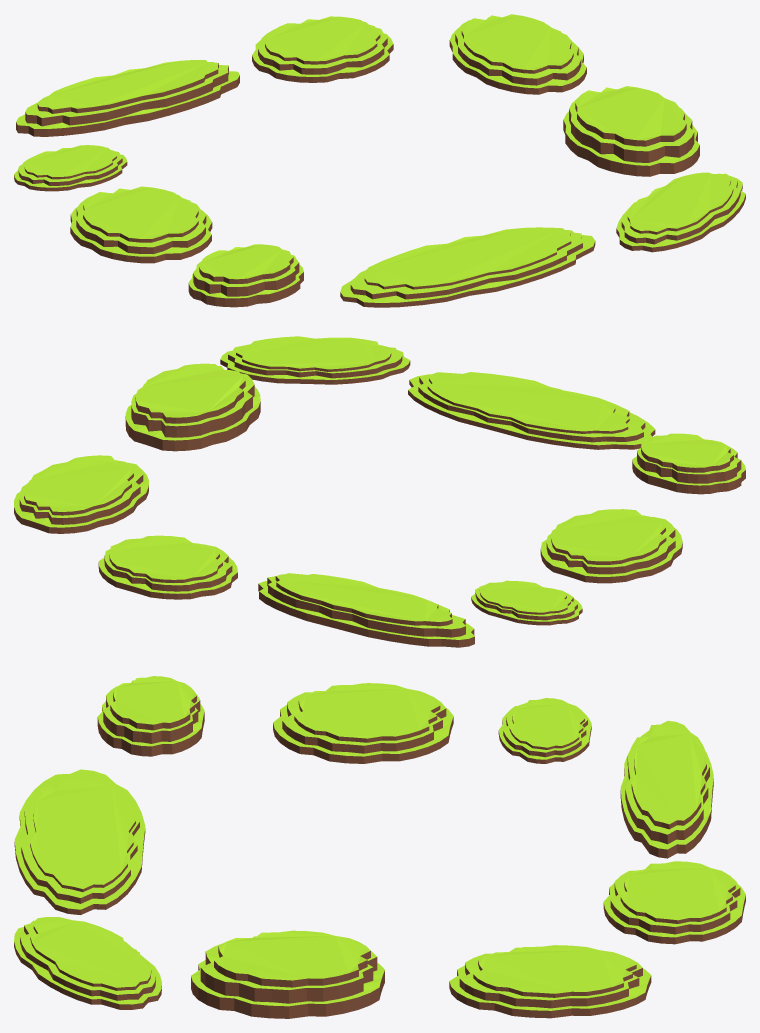
The model's file is hills.obj.
3 views of the same model, one above another, from view 1: azimuth 30°, elevation 25°; view 2: azimuth 150°, elevation 25°; view 3: azimuth 270°, elevation 25° (orthographic). The views are drawn at different scales.
Parts seen in each view (by area): view 1: Circle.004, Circle.001, Circle.007, Circle.002, Circle.006, Circle.005, Circle, Circle.003, Circle.008; view 2: Circle.004, Circle.001, Circle.007, Circle.002, Circle.006, Circle, Circle.005, Circle.003, Circle.008; view 3: Circle.004, Circle.007, Circle.006, Circle.002, Circle.001, Circle, Circle.005, Circle.003, Circle.008.
Boxes of the visible parts, box(x1,y1,x2,y2) form: Circle.004: box(340, 227, 595, 307); Circle.001: box(16, 60, 239, 136); Circle.007: box(563, 86, 699, 176); Circle.002: box(70, 186, 212, 263); Circle.006: box(449, 14, 586, 94); Circle.005: box(252, 16, 393, 82); Circle: box(616, 172, 745, 252); Circle.003: box(188, 244, 303, 307); Circle.008: box(14, 145, 127, 191); Circle.004: box(408, 372, 655, 449); Circle.001: box(258, 573, 474, 647); Circle.007: box(125, 363, 260, 451); Circle.002: box(540, 509, 682, 583); Circle.006: box(14, 455, 148, 533); Circle: box(220, 336, 410, 384); Circle.005: box(98, 535, 237, 599); Circle.003: box(632, 433, 745, 494); Circle.008: box(471, 580, 582, 625); Circle.004: box(14, 769, 145, 914); Circle.007: box(191, 930, 384, 1018); Circle.006: box(449, 945, 651, 1018); Circle.002: box(273, 683, 453, 763); Circle.001: box(620, 721, 713, 858); Circle: box(14, 917, 161, 1009); Circle.005: box(603, 861, 745, 944); Circle.003: box(97, 676, 204, 756); Circle.008: box(498, 698, 591, 763).
Size of the model in its own units: 55.71 by 3.01 by 53.34.
